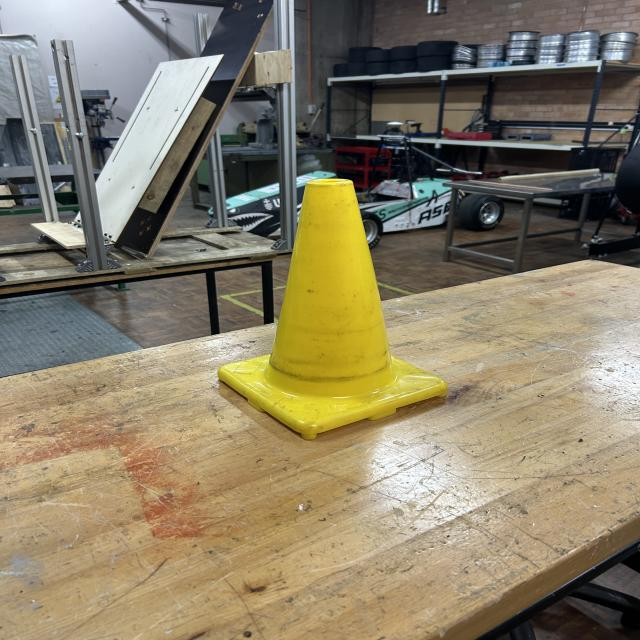yellow_cone: (218, 179, 446, 436)
